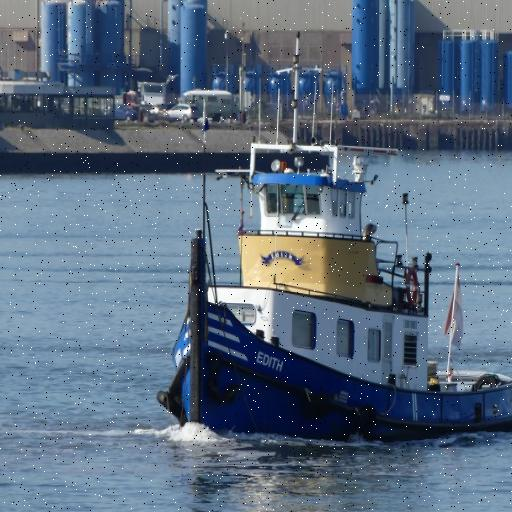tugboat: (153, 118, 512, 452)
